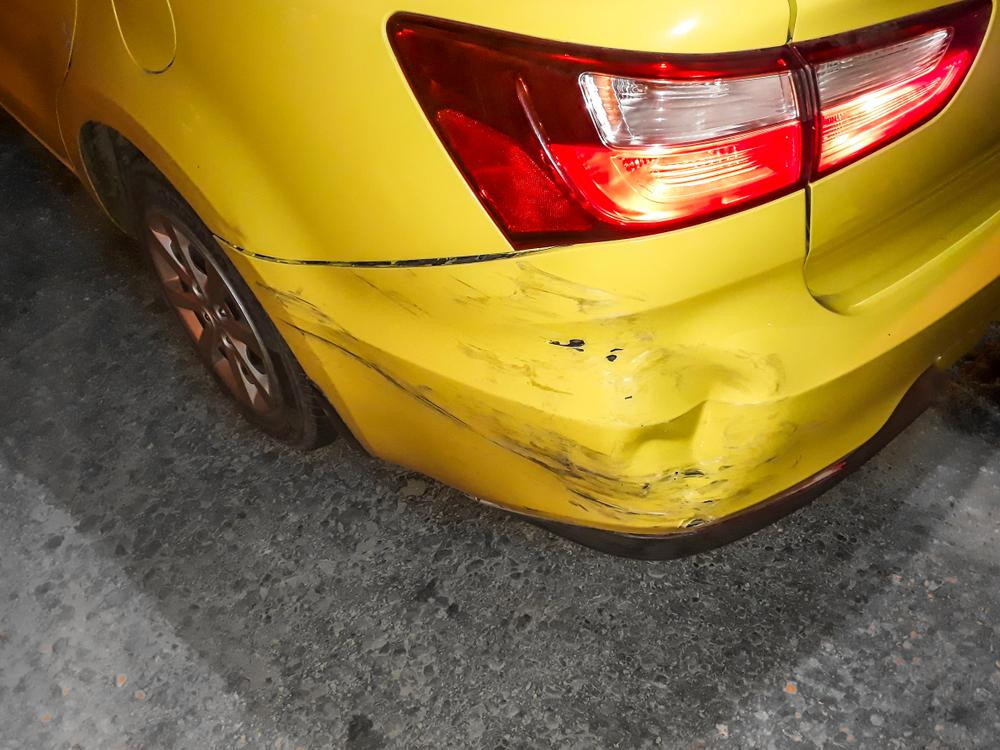dent: (619, 350, 776, 523)
scratch: (257, 260, 687, 523)
